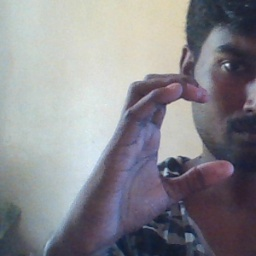C: (104, 65, 236, 212)
